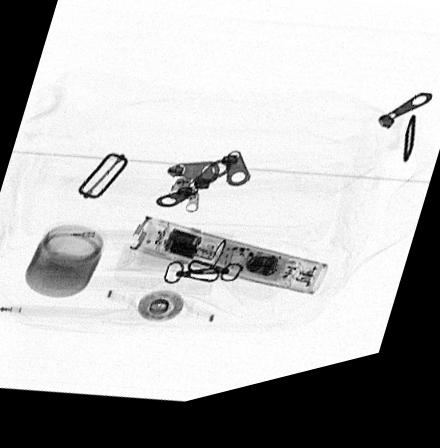Baton: (127, 222, 328, 311)
